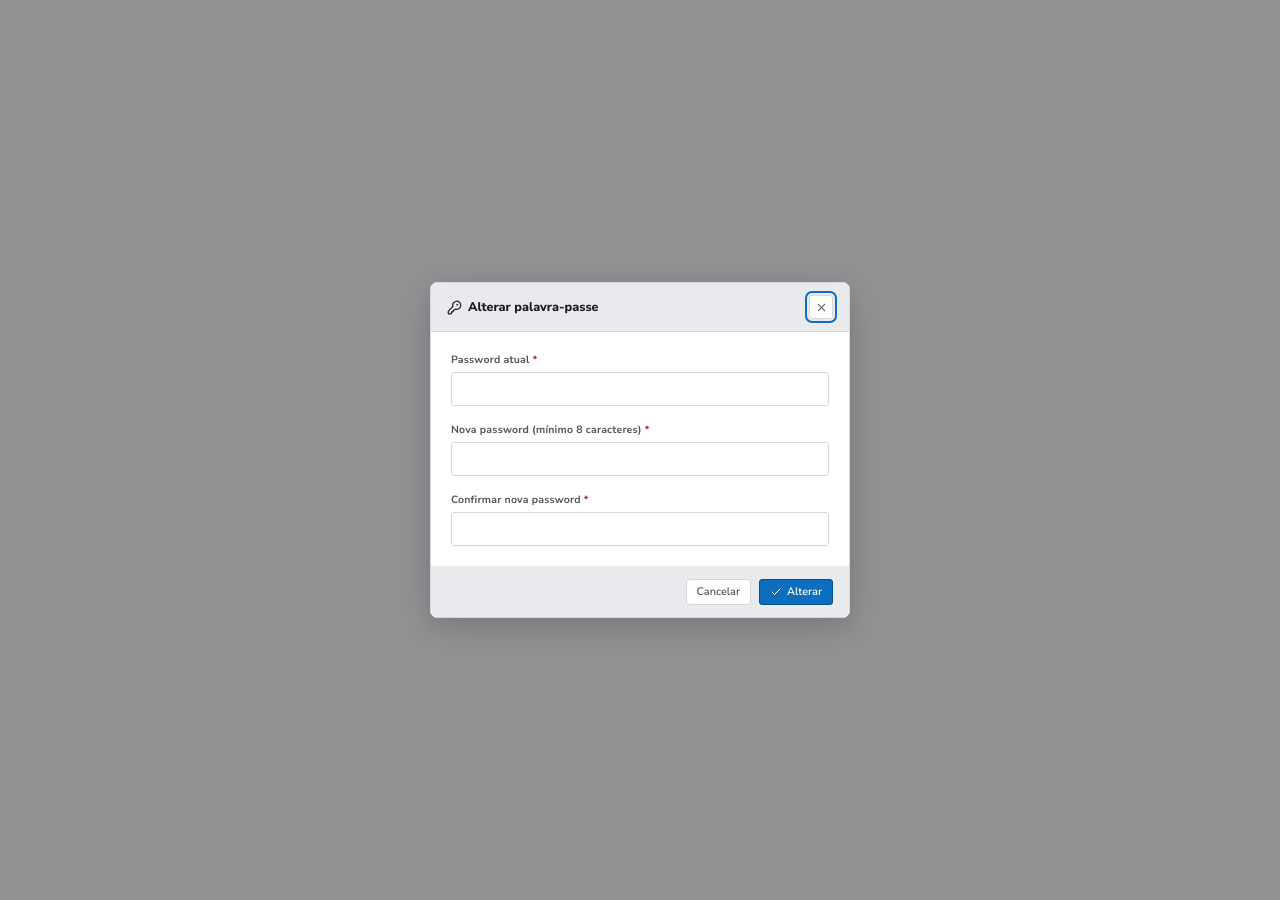
Test: AlterarPasswordModal (#219) › password atual errada (422 do servidor) → erro junto ao campo e o modal fica aberto
In the password field labelled "Password atual": x=640, y=389 [451, 372, 829, 406], type "errada123"
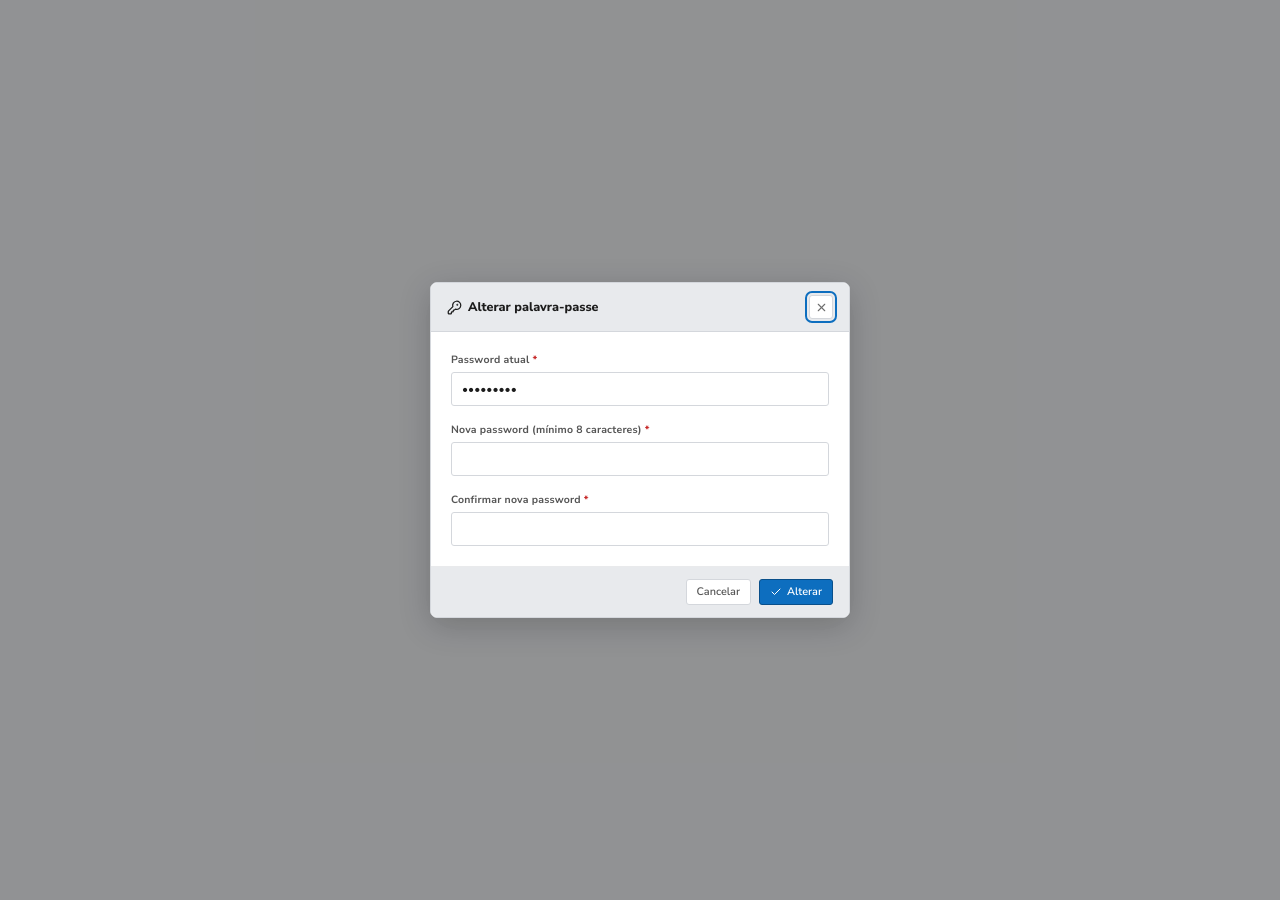
In the password field labelled "Nova password (mínimo 8 caracteres)": x=640, y=459 [451, 442, 829, 476], type "nova-password-1"
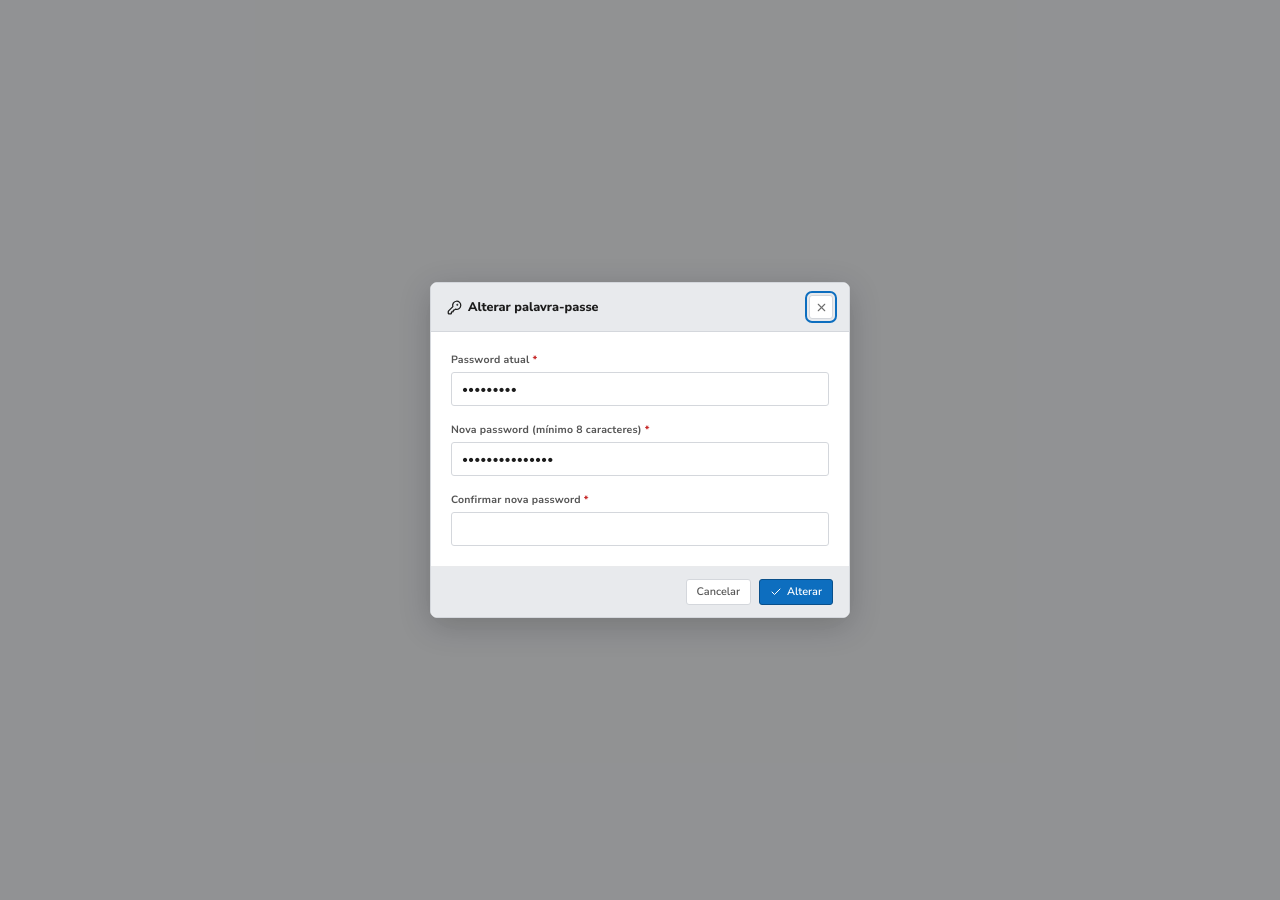
In the password field labelled "Confirmar nova password": x=640, y=529 [451, 512, 829, 546], type "nova-password-1"
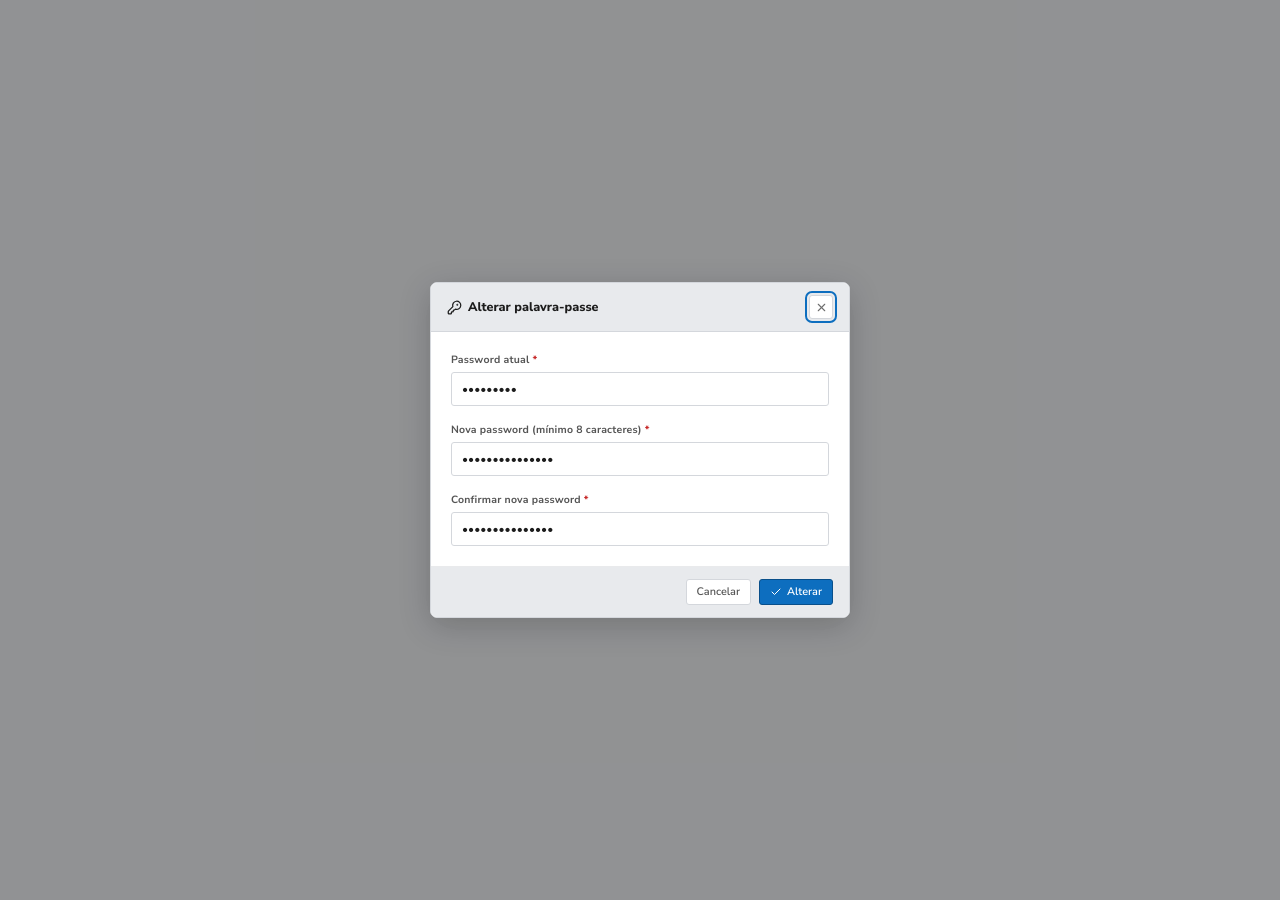
Click the button "Alterar": x=796, y=592 [759, 579, 833, 605]
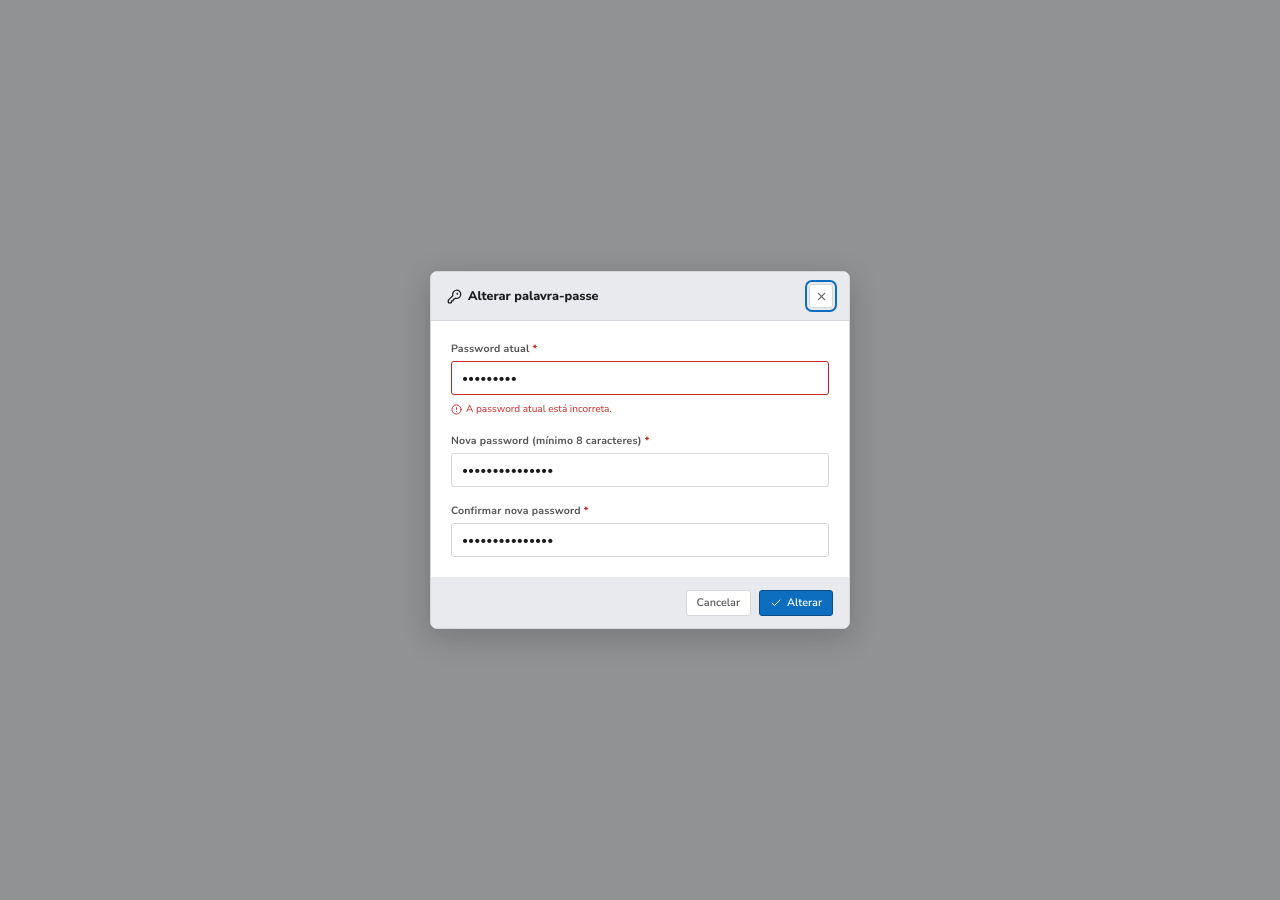
Expected: the text "A password atual está incorreta." is shown, [451, 402, 612, 416]
